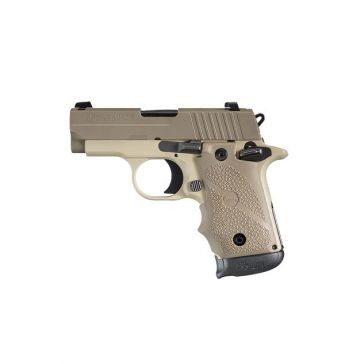gun: (66, 98, 291, 279)
